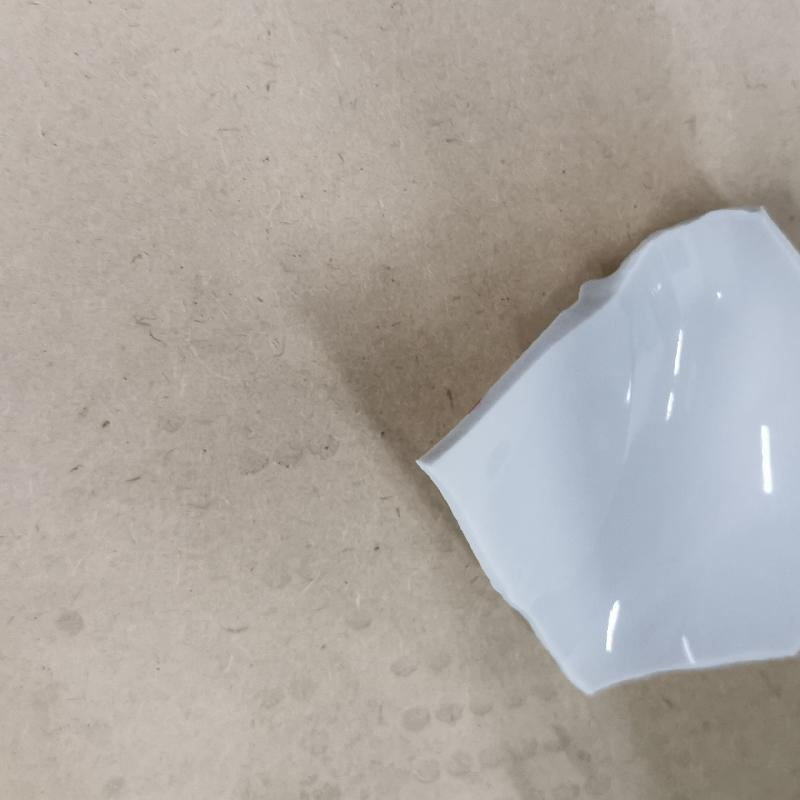ceram: (414, 197, 800, 703)
